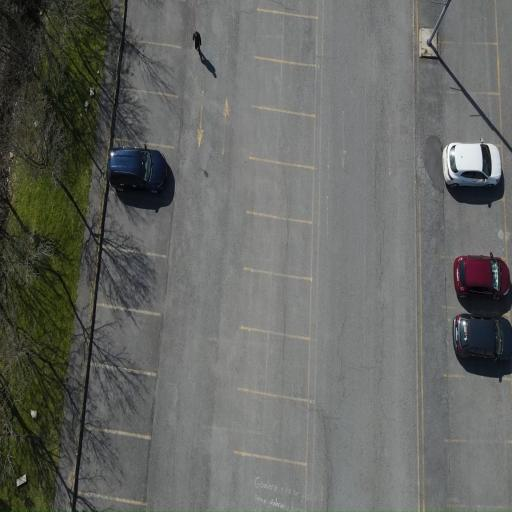car: (109, 145, 167, 193), (443, 139, 501, 187), (453, 314, 511, 360), (454, 253, 510, 298)
person: (193, 31, 201, 53)
